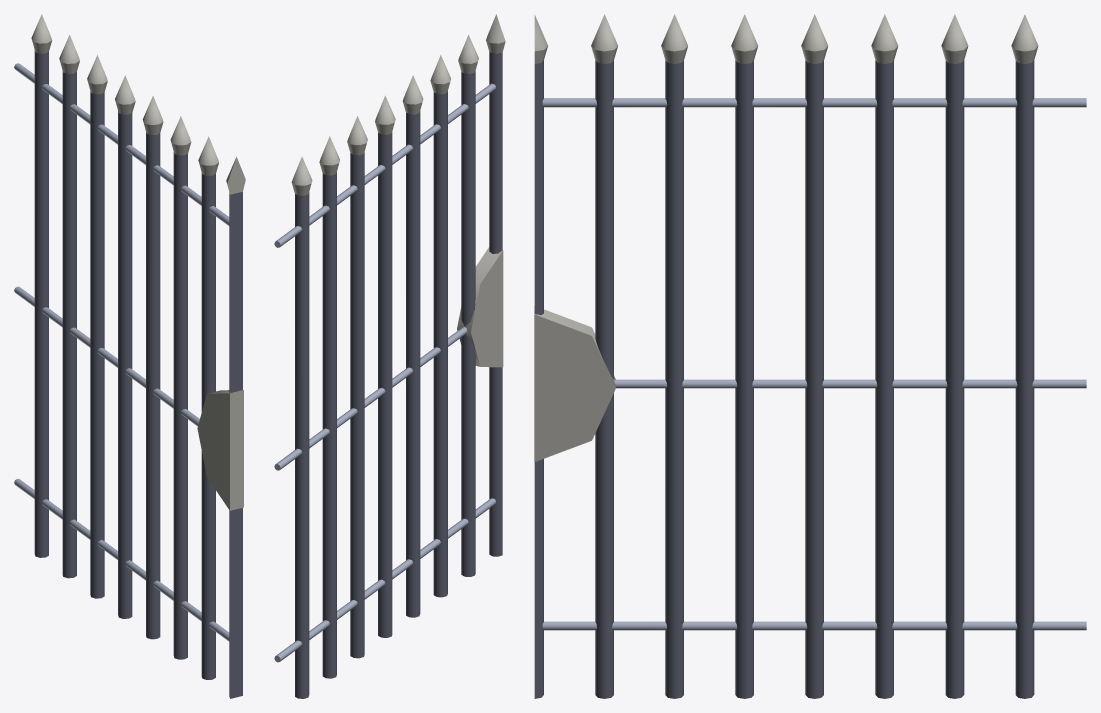
File: PuertaReja2.fbx
3 views of the same model, side by side, from view 1: azimuth 30°, elevation 25°; view 2: azimuth 150°, elevation 25°; view 3: azimuth 270°, elevation 25° (orthographic). The views are drawn at different scales.
Visible parts, largest first — view 1: Cylinder.002; view 2: Cylinder.002; view 3: Cylinder.002.
Part boxes in pixels (x1,y1,x2,y2): Cylinder.002: (14,14,245,698); Cylinder.002: (274,14,505,698); Cylinder.002: (534,14,1086,698).
Size of the model in its own units: 0.1163 by 3.22 by 2.37.
